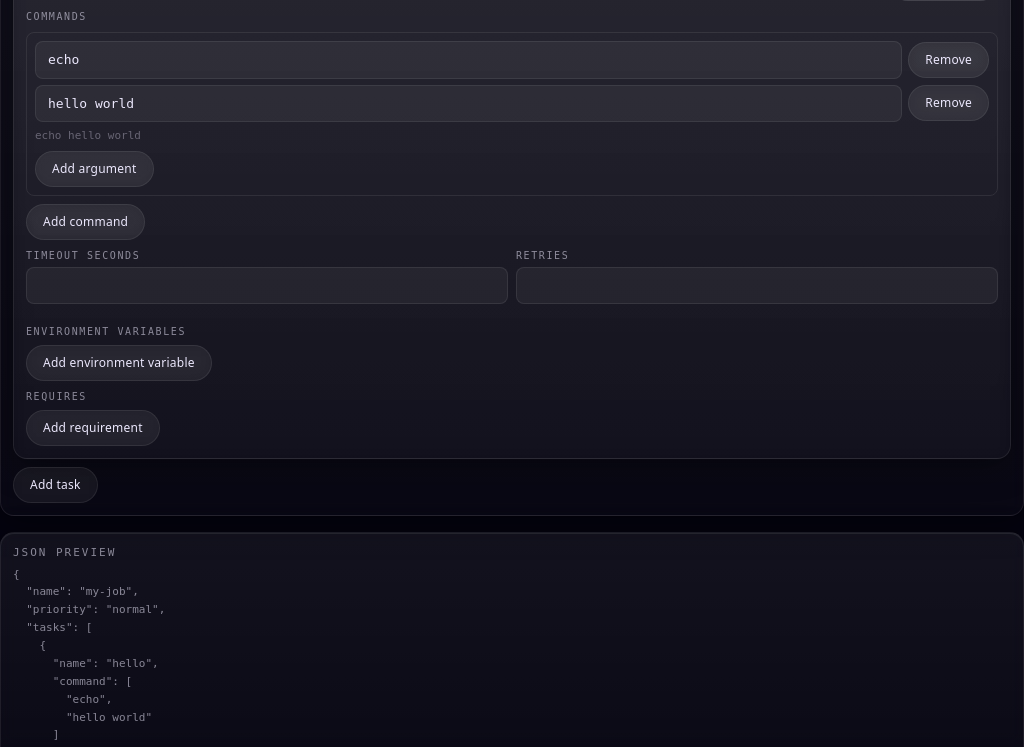
it: removing a blank-key row announces its position
(page scrolled)
Click the button "Add environment variable" at (119, 363), box [26,345,212,381]
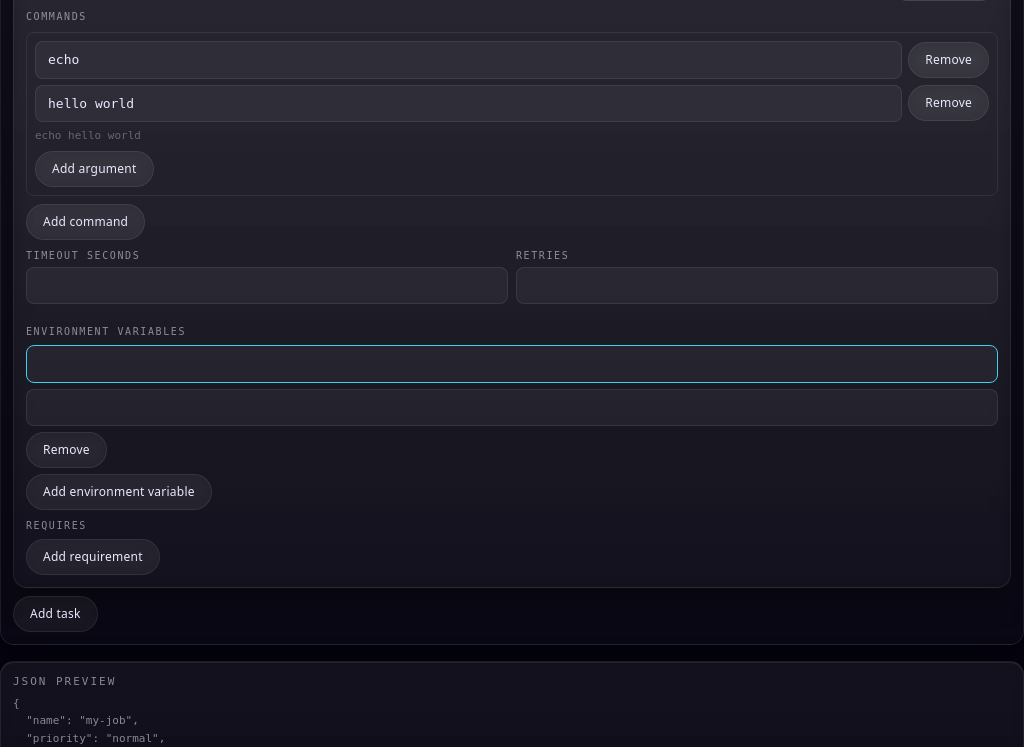
Click the button with aria-label "Remove environment variable 1" at (66, 450), box [26,432,107,468]
(page scrolled)
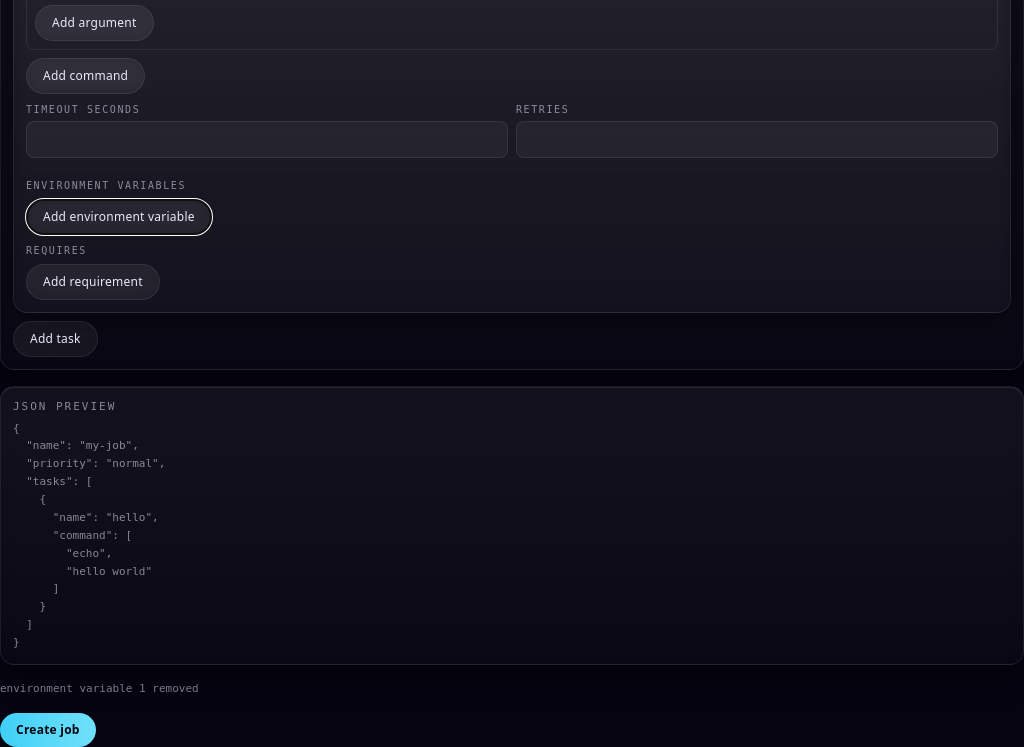
Result: the message reads "environment variable 1 removed" at [0,682,199,695]
